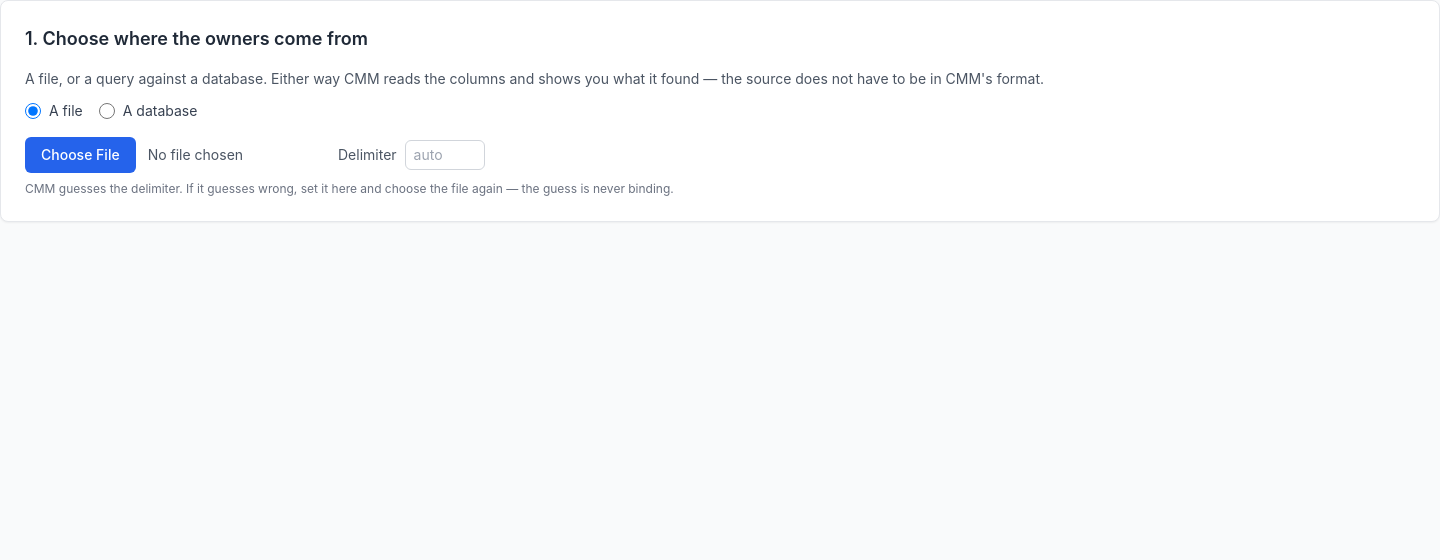
it: browsing the database › says so when the tables cannot be listed
The image size is (1440, 560).
Click the radio button labelled "A database": click(107, 111) [99, 103, 115, 119]
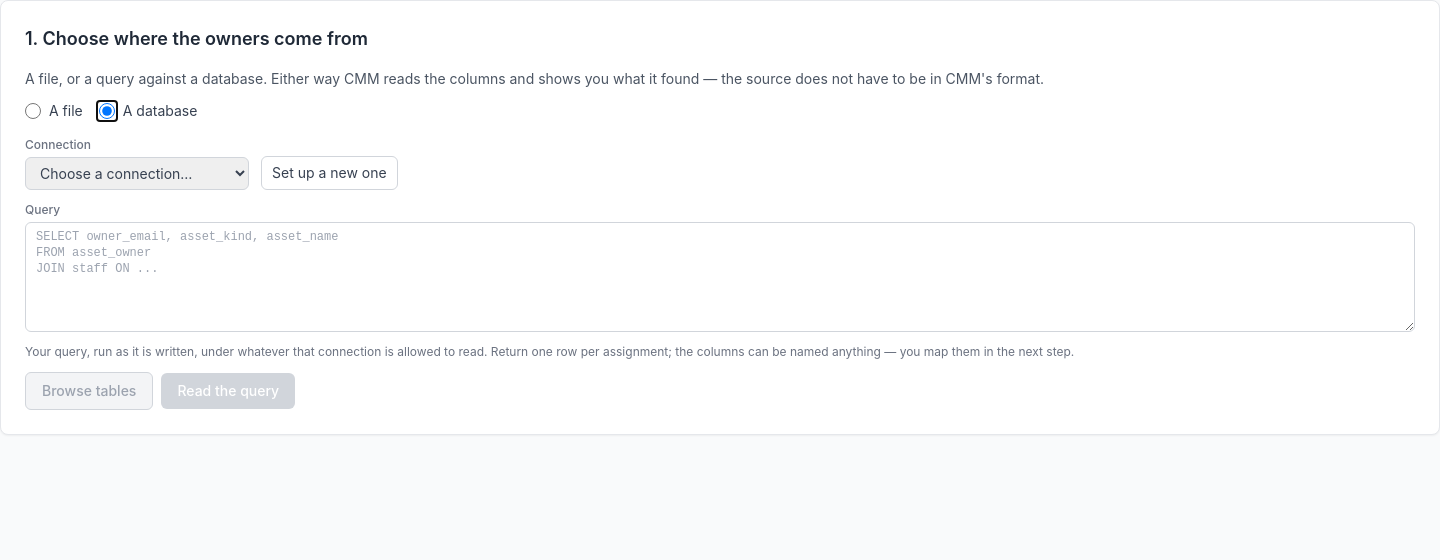
Select "cmdb-connection" in the dropdown labelled "Connection": (137, 174) [25, 157, 249, 190]
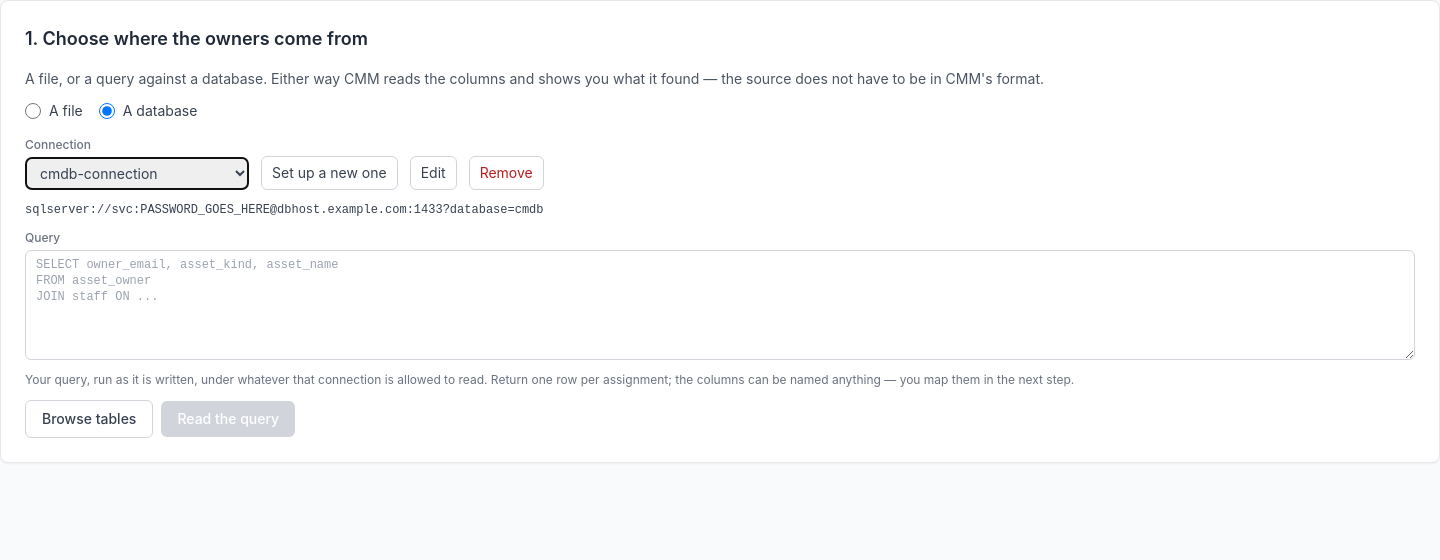
Click the button "Browse tables": click(89, 419) [25, 400, 153, 438]
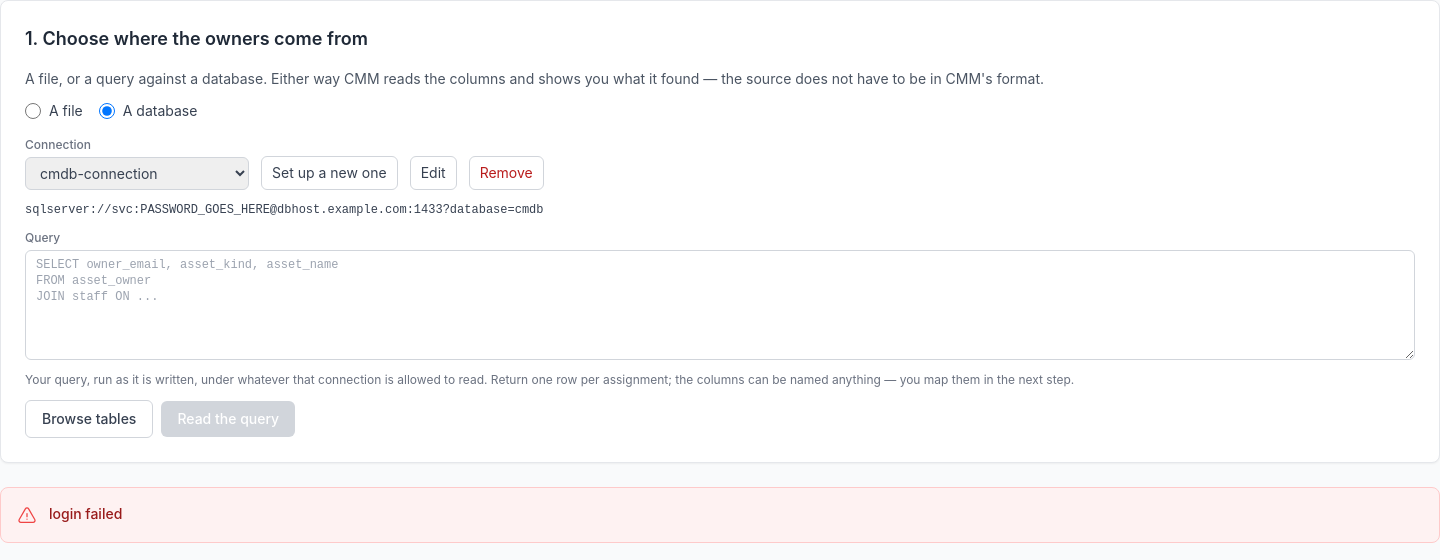
Expected: the text "login failed" is shown, [49, 505, 122, 522]
